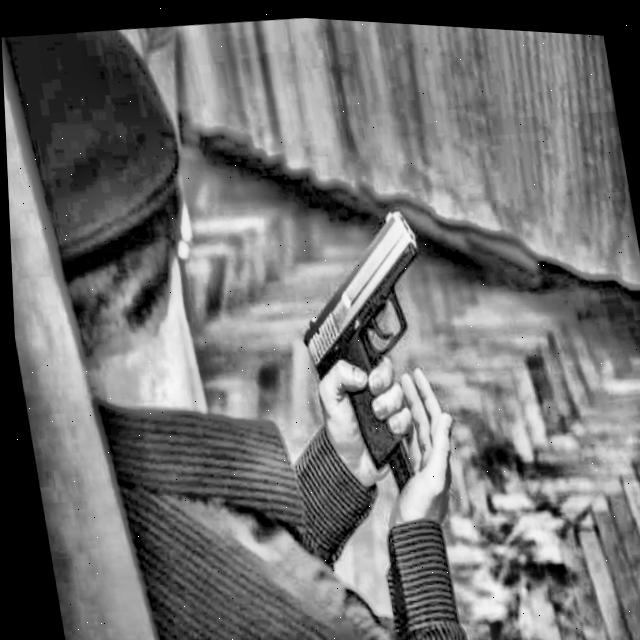pistol: (294, 189, 431, 506)
